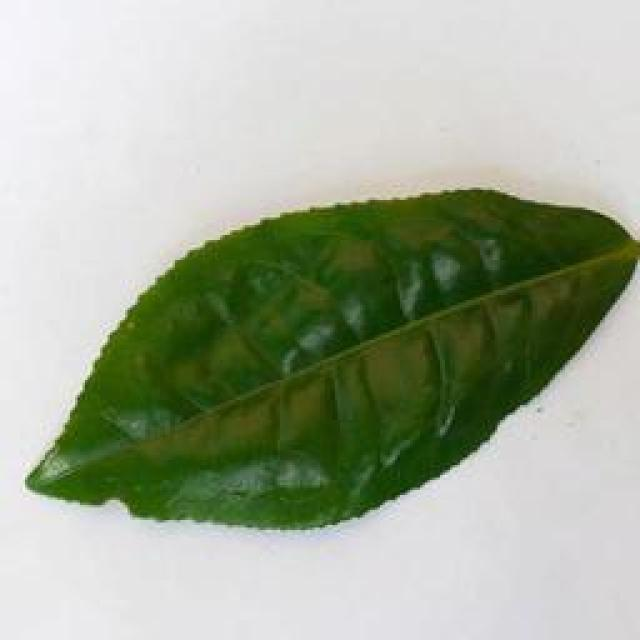Healthy: (18, 183, 640, 536)
